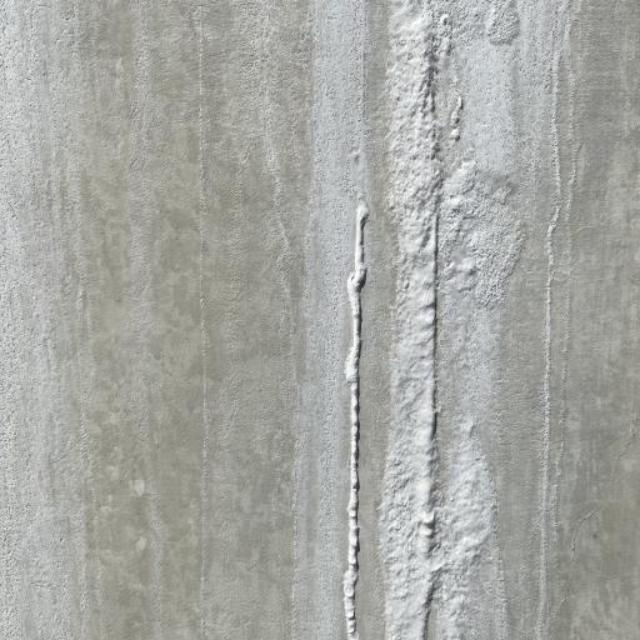D01: (386, 2, 572, 639)
